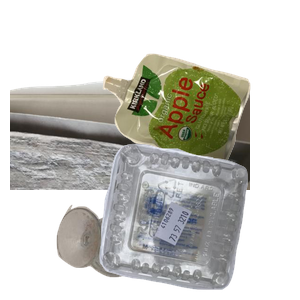glass: (54, 202, 193, 300)
paper: (10, 77, 250, 257)
plastic: (97, 141, 300, 300)
trash: (100, 51, 300, 214)
